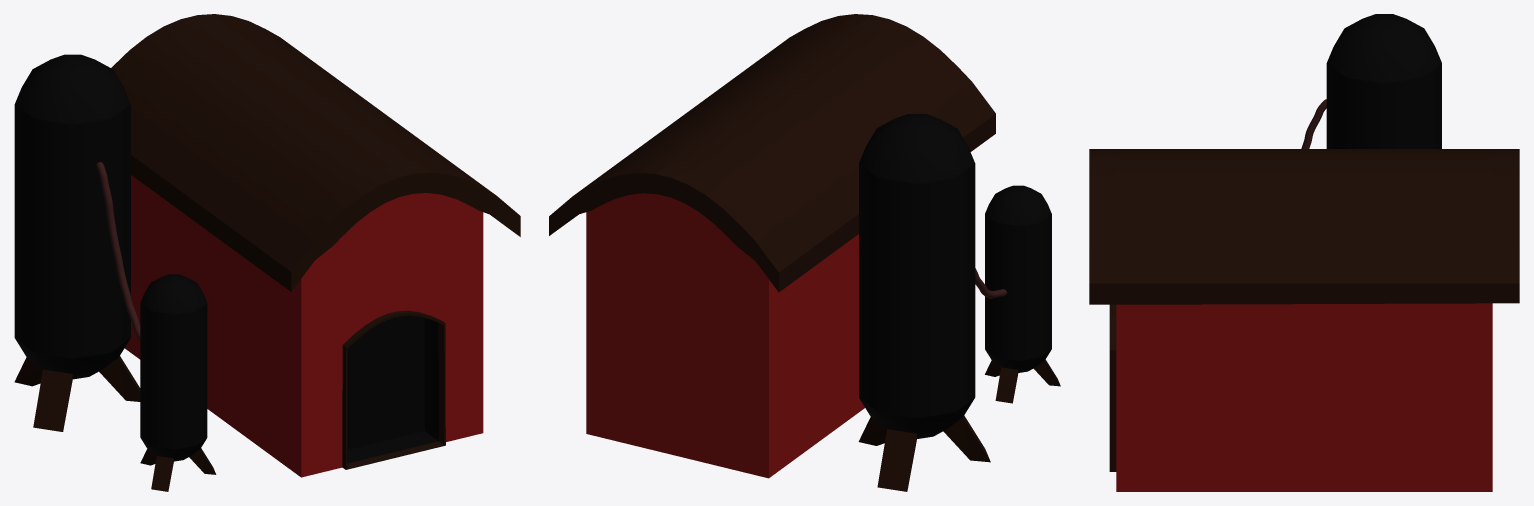
Rendered from RedSilo.FBX.
The picture shows the model from 3 angles, left to right: view 1: azimuth 30°, elevation 25°; view 2: azimuth 150°, elevation 25°; view 3: azimuth 270°, elevation 25°; orthographic projection.
Parts seen in each view (by area): view 1: Box001; view 2: Box001; view 3: Box001.
Boxes of the visible parts, bbox=[...] form: Box001: bbox=[14, 14, 520, 491]; Box001: bbox=[549, 14, 1060, 491]; Box001: bbox=[1089, 14, 1519, 491].
Size of the model in its own units: 151 by 159 by 138.
